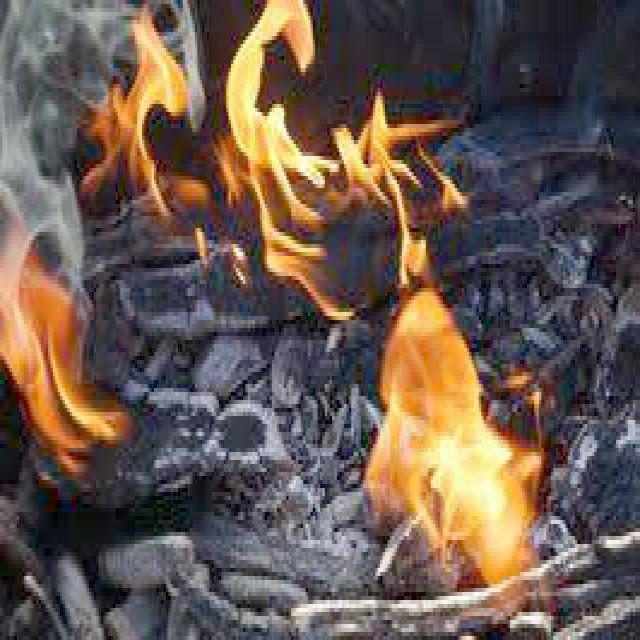fire: (114, 14, 465, 290), (390, 283, 565, 593), (4, 250, 125, 471)
smoke: (2, 7, 98, 216)
